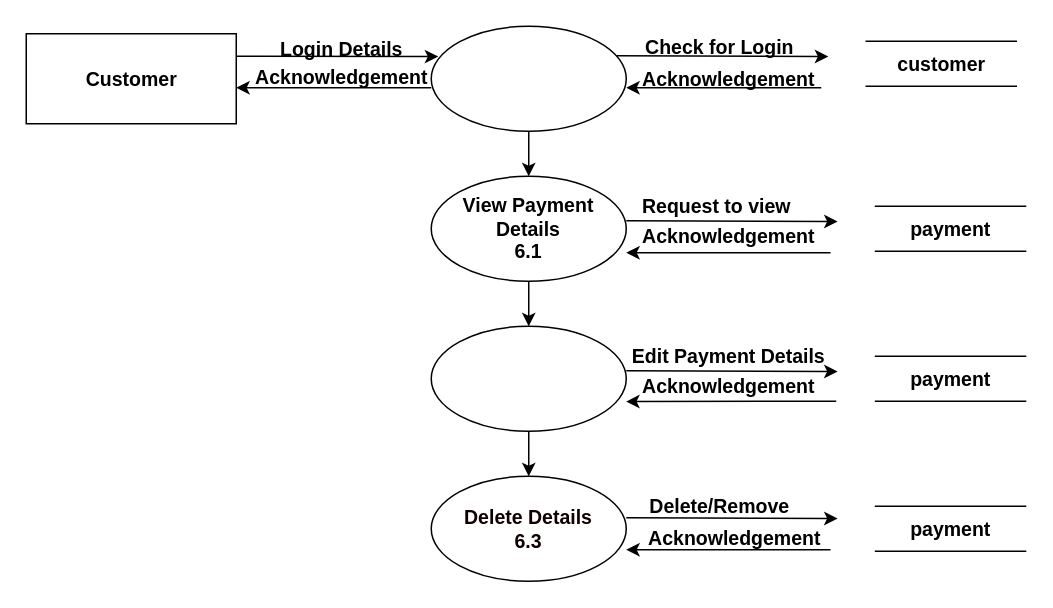
Image size: 1053x608. Some labels were removed from this diagram. Each missing label, with the centre of its shape:
Login 6.0: (x=528, y=78)
Update Details 6.2: (x=528, y=378)
